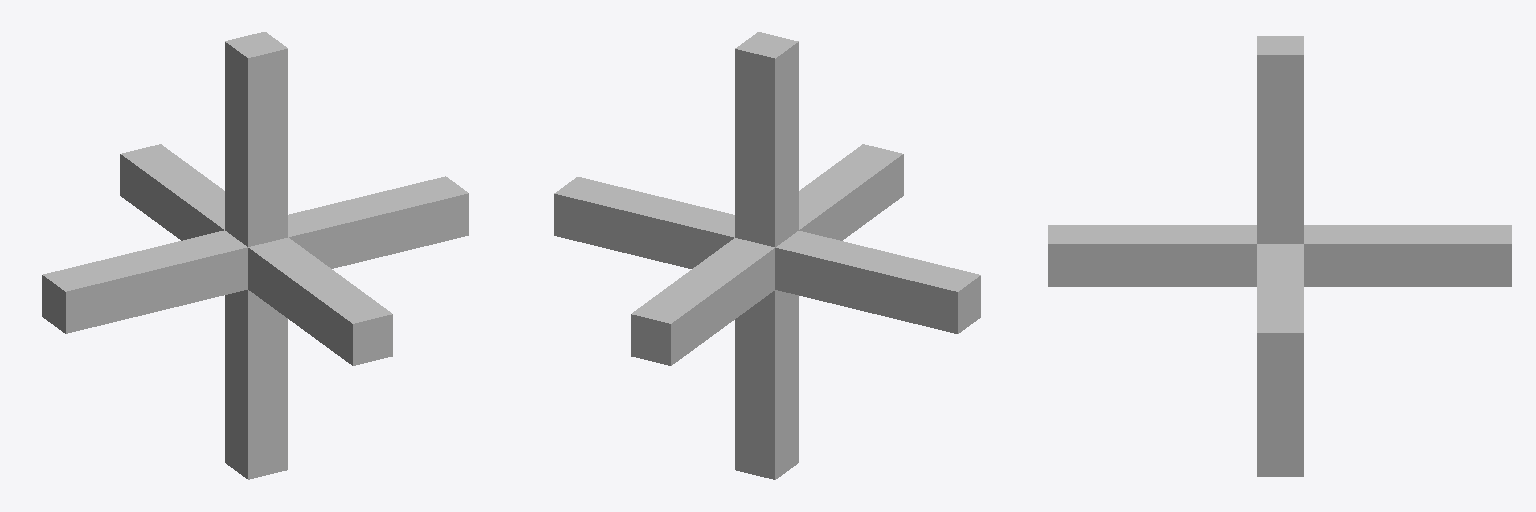
File: spike.obj
The picture shows the model from 3 angles: view 1: azimuth 30°, elevation 25°; view 2: azimuth 150°, elevation 25°; view 3: azimuth 270°, elevation 25°; orthographic projection.
Visible parts, largest first — view 1: Spike_Cube; view 2: Spike_Cube; view 3: Spike_Cube.
Boxes of the visible parts, x1=… form: Spike_Cube: x1=42, y1=32, x2=468, y2=479; Spike_Cube: x1=554, y1=32, x2=980, y2=479; Spike_Cube: x1=1048, y1=36, x2=1511, y2=476.
Bounding box in the file's own units: 19.99 × 19.95 × 19.94.